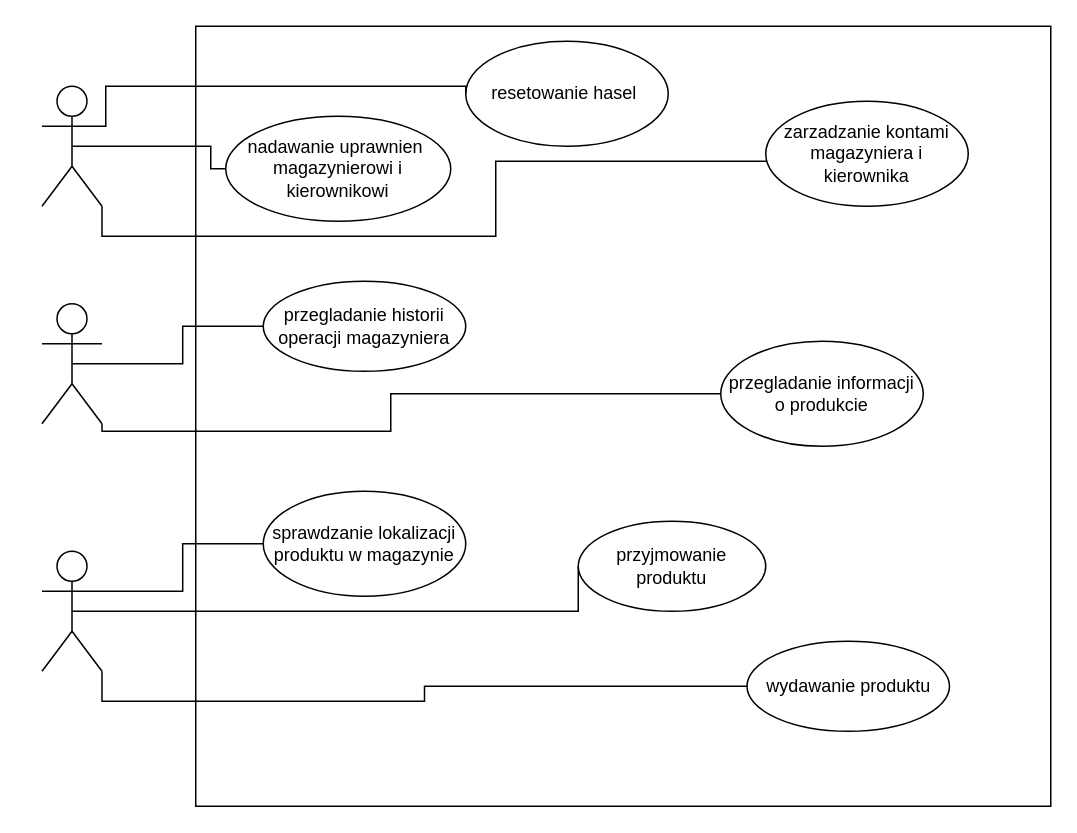
Image size: 1077x833. Some labels were removed from this diagram. The shapes that lost their labels are listed below. From the top down, each one's centre as x and y in pixels, then its label:
At (71,145): "admin".
At (71,363): "kierownik".
At (71,610): "magazynier".
